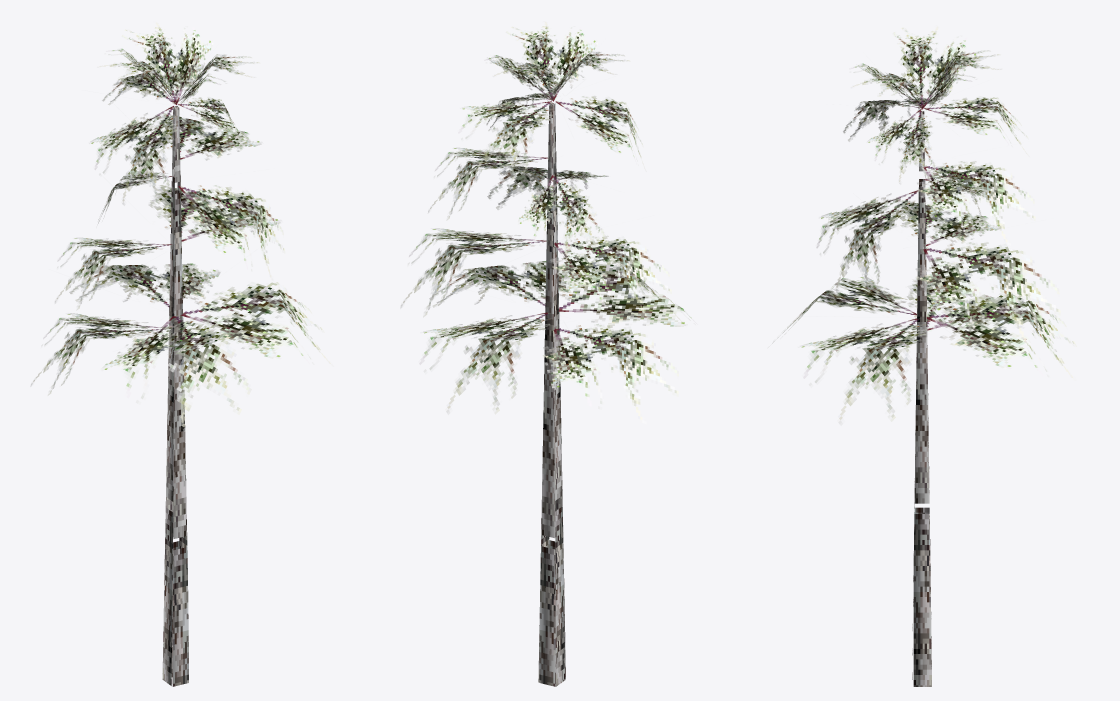
File: Environment - Vegetation - Tree Burned Stump - Snow - PTPine02_s.glb
3 views of the same model, side by side, from view 1: azimuth 30°, elevation 25°; view 2: azimuth 150°, elevation 25°; view 3: azimuth 270°, elevation 25° (orthographic).
Parts seen in each view (by area): view 1: PTPINE02_S; view 2: PTPINE02_S; view 3: PTPINE02_S.
Boxes of the visible parts, box(x1,y1,x2,y2) form: PTPINE02_S: box(30, 21, 333, 686); PTPINE02_S: box(400, 21, 697, 686); PTPINE02_S: box(772, 25, 1076, 686).
Bounding box in the file's own units: 25.74 × 52.07 × 27.34.
Materials: 1 (1 with a texture image).
